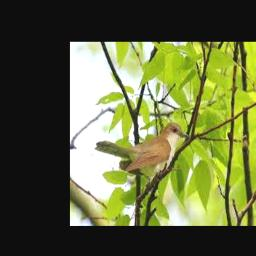Cuckoo: (95, 122, 189, 175)
